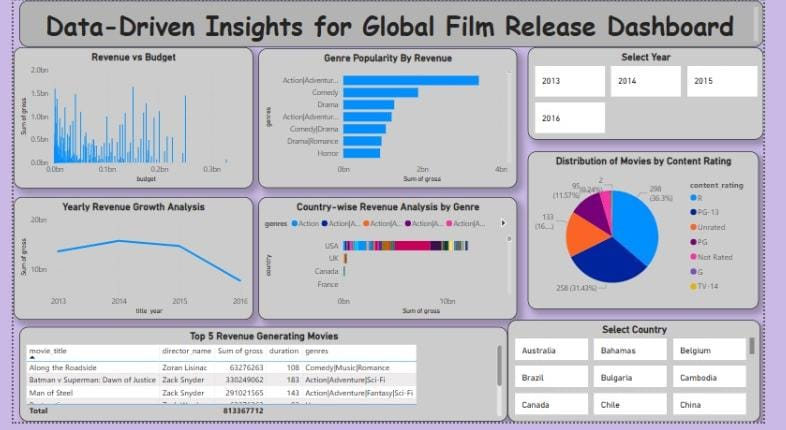

What the dashboard file says about the page in this screenshot:
{"tool":"powerbi","page":{"name":"Page 1","canvas":[1280,720],"ordinal":0},"visuals":[{"type":"textbox","box":[9.6,0,1270.7,79.6],"z":0},{"type":"clusteredColumnChart","title":"Revenue vs Budget","fields":{"Y":["Data.gross"],"Category":["Data.budget"]},"box":[0,80.9,408.5,240.6],"z":1000},{"type":"clusteredBarChart","title":"Genre Popularity By Revenue","fields":{"Category":["Data.genres"],"Y":["Data.gross"]},"box":[418.9,83,441.7,238.5],"z":2000},{"type":"lineChart","title":"Yearly Revenue Growth Analysis","fields":{"Category":["Data.title_year"],"Y":["Data.gross"]},"box":[0,336,408.5,209.5],"z":3000},{"type":"pieChart","title":"Distribution of Movies by Content Rating","fields":{"Y":["Data.movie_title"],"Category":["Data.content_rating"]},"box":[877.2,257.2,394,269.6],"z":4000},{"type":"barChart","title":"Country-wise Revenue Analysis by Genre","fields":{"Category":["Data.country"],"Y":["Data.gross"],"Series":["Data.genres"]},"box":[418.9,336,441.7,209.5],"z":5000},{"type":"tableEx","title":"Top 5 Revenue Generating Movies","fields":{"Values":["Data.movie_title","Data.director_name","Data.gross","Data.duration","Data.genres"]},"box":[10.4,557.9,833.7,161.8],"z":6000},{"type":"advancedSlicerVisual","title":"Select Year","fields":{"Values":["Data.title_year"]},"box":[877.2,80.9,402.3,157.6],"z":7000},{"type":"advancedSlicerVisual","title":"Select Country","fields":{"Values":["Data.country"]},"box":[844.1,545.6,430.8,174.2],"z":8000}]}

Visuals, with their boxes in screenshot pixels (x1, y1, x2, y2), scaled from the page's 1280x720 canvas onto the 786x430 screenshot:
textbox: locate(6, 0, 785, 48)
"Revenue vs Budget" clusteredColumnChart: locate(0, 48, 251, 192)
"Genre Popularity By Revenue" clusteredBarChart: locate(257, 50, 528, 192)
"Yearly Revenue Growth Analysis" lineChart: locate(0, 201, 251, 326)
"Distribution of Movies by Content Rating" pieChart: locate(539, 154, 781, 315)
"Country-wise Revenue Analysis by Genre" barChart: locate(257, 201, 528, 326)
"Top 5 Revenue Generating Movies" tableEx: locate(6, 333, 518, 429)
"Select Year" advancedSlicerVisual: locate(539, 48, 785, 142)
"Select Country" advancedSlicerVisual: locate(518, 326, 783, 429)
